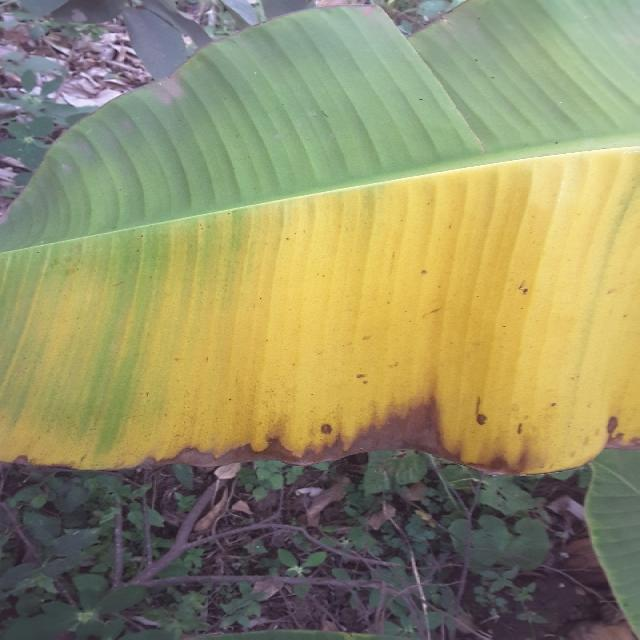Cordana: (0, 136, 640, 545)
